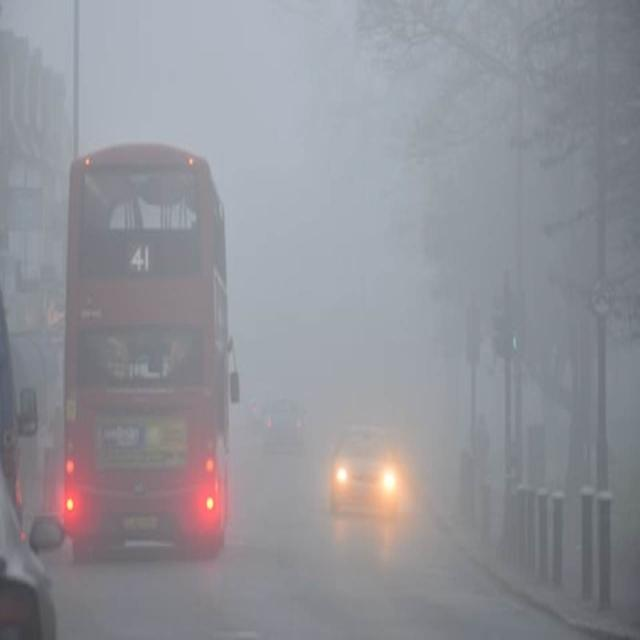car: (2, 445, 60, 632), (331, 430, 399, 519), (265, 399, 305, 450)
truck: (59, 146, 232, 564)
